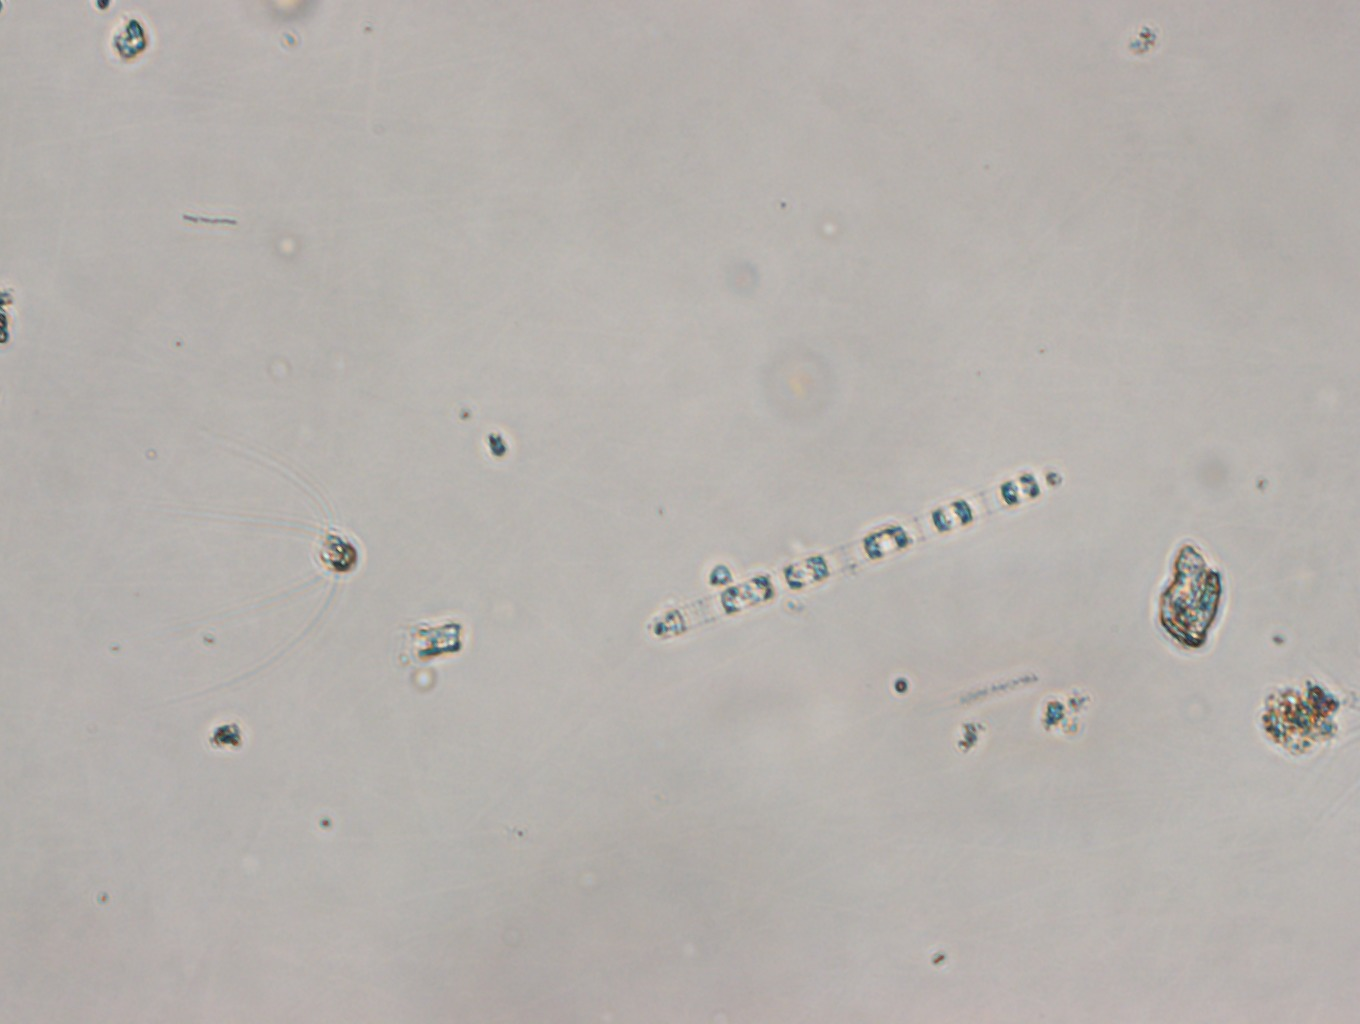skeletonema: (655, 456, 1069, 644)
